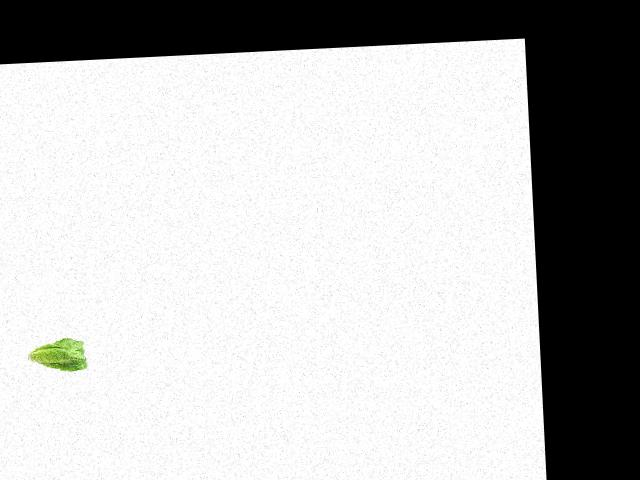lettuce: (24, 331, 90, 378)
